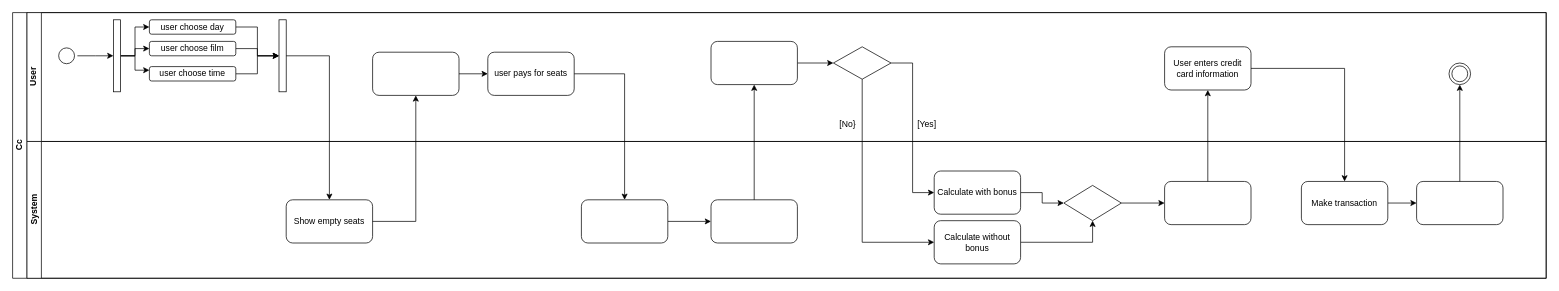
Image size: 1559x291. Some labels were removed from this diagram. The shapes that lost their labels are listed below. From the top down, each one's centre as x and y in pixels, then its label:
At point 415,73: "user reserves seats".
At point 753,63: "User uses bonus card".
At point 624,221: "Reserve paid for seats".
At point 753,221: "Ask user if they have bonus card".
At point 1207,203: "Ask user for credit card information".
At point 1459,203: "Print confirmation".
